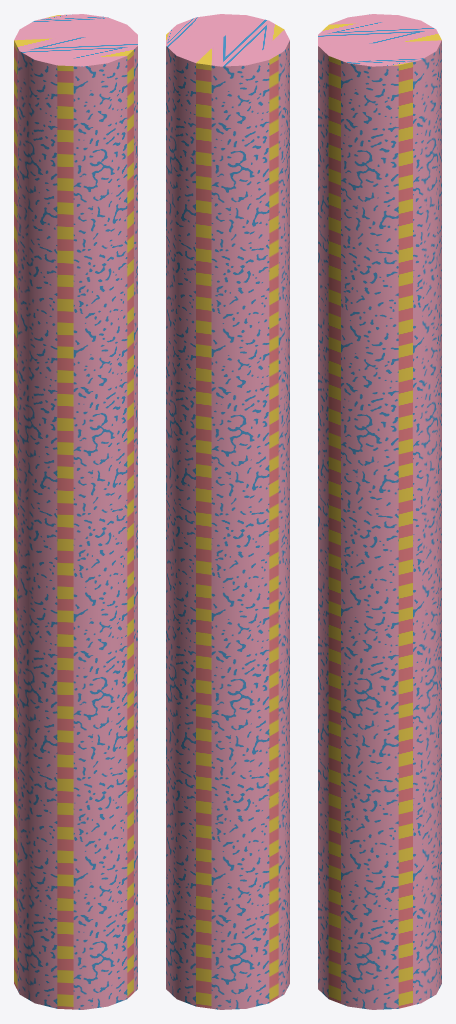
File: M_pillar_02.fbx
3 renders of one model, left to right at view 1: azimuth 90°, elevation 25°; view 2: azimuth 150°, elevation 25°; view 3: azimuth 270°, elevation 25°, orthographic.
Parts seen in each view (by area): view 1: Plane; view 2: Plane; view 3: Plane.
Boxes of the visible parts, x1,y1,x2,y2 form: Plane: [14, 14, 137, 1009]; Plane: [166, 14, 289, 1009]; Plane: [318, 14, 441, 1009].
Bounding box in the file's own units: 93.95 × 785 × 93.43.
